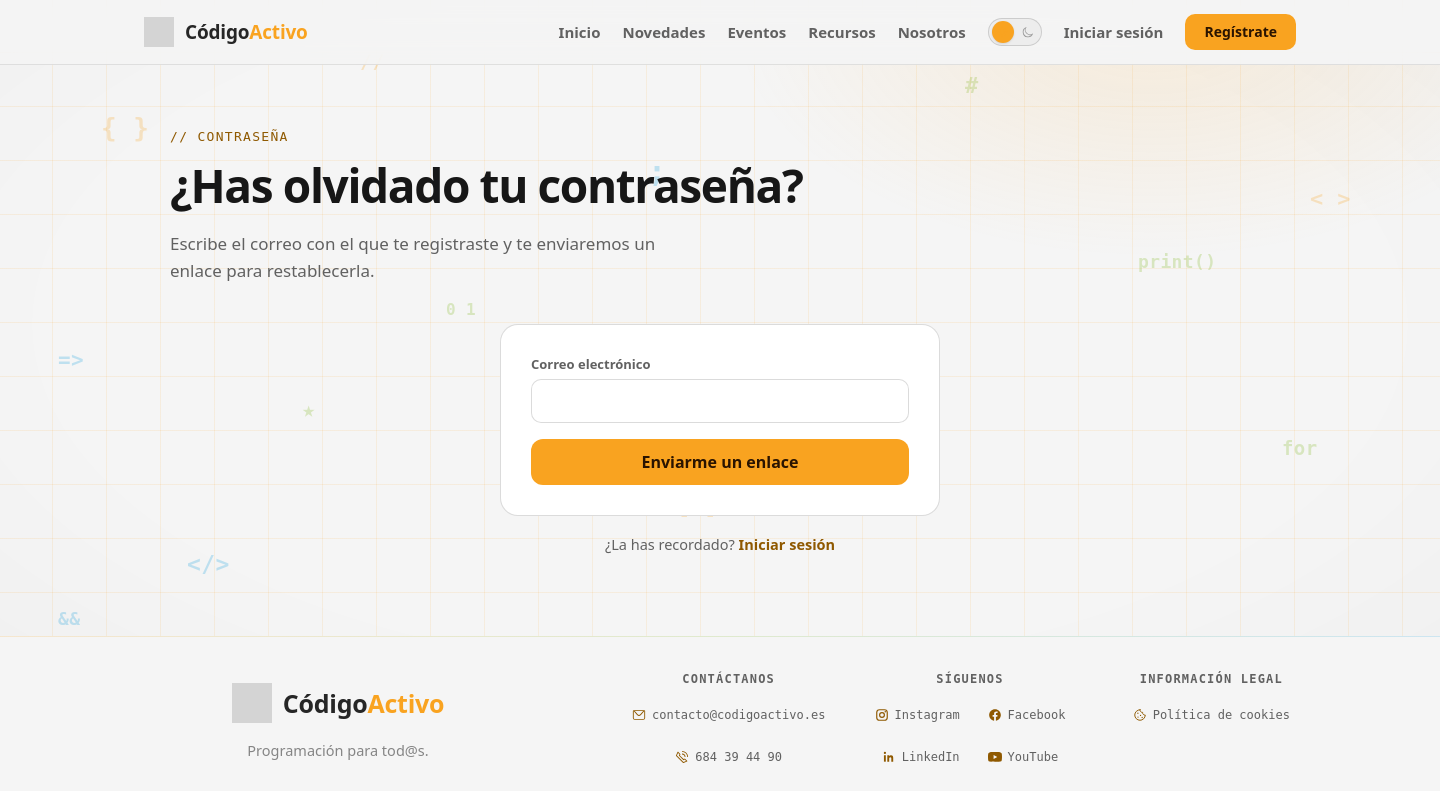
Test: forgot password page › shows an error and keeps the form when the request fails
The width and height of the screenshot is (1440, 791).
Type "ada@example.test" into the field with id "forgot-email" at (720, 401), box [545,380,895,422]
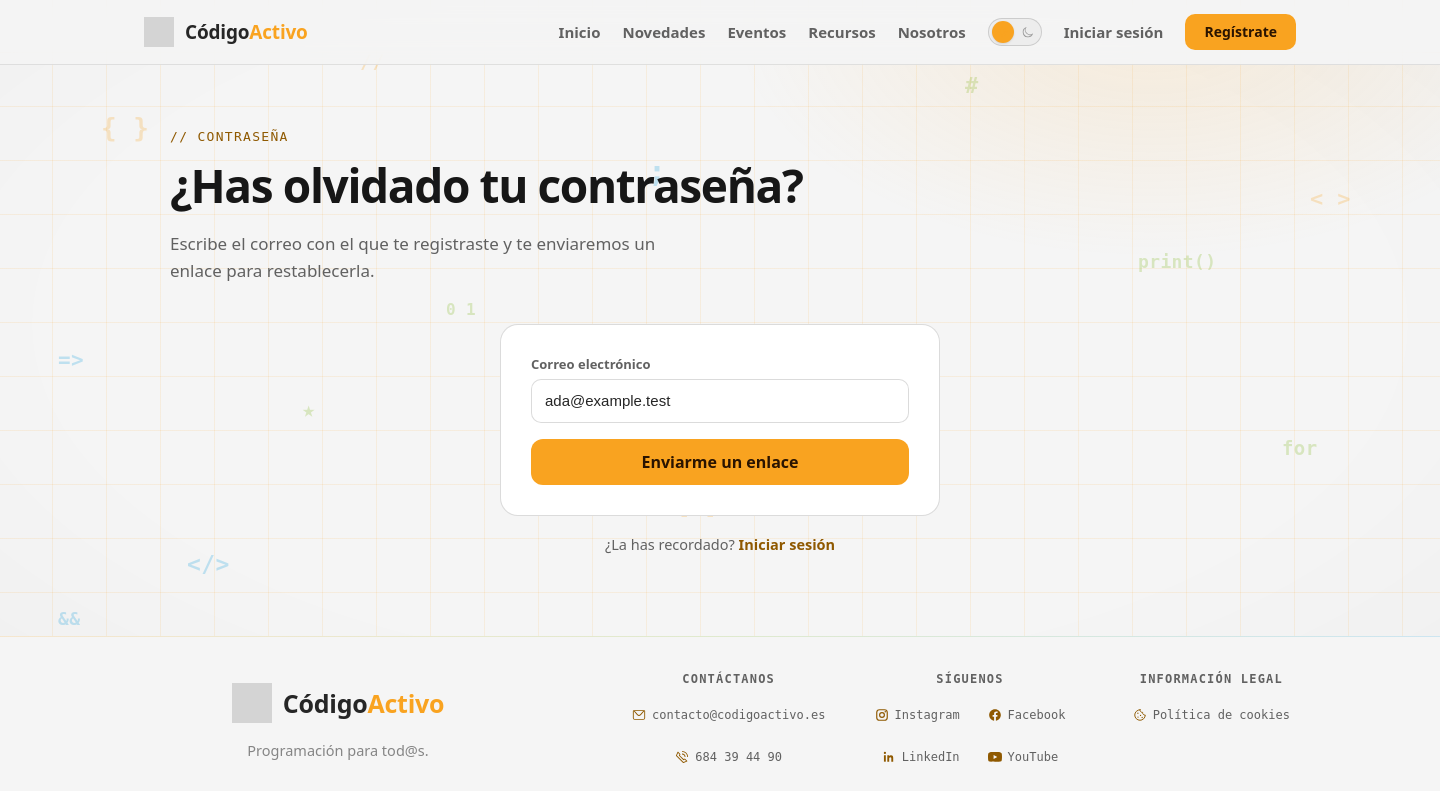
Submit the form, box [500,324,940,516]
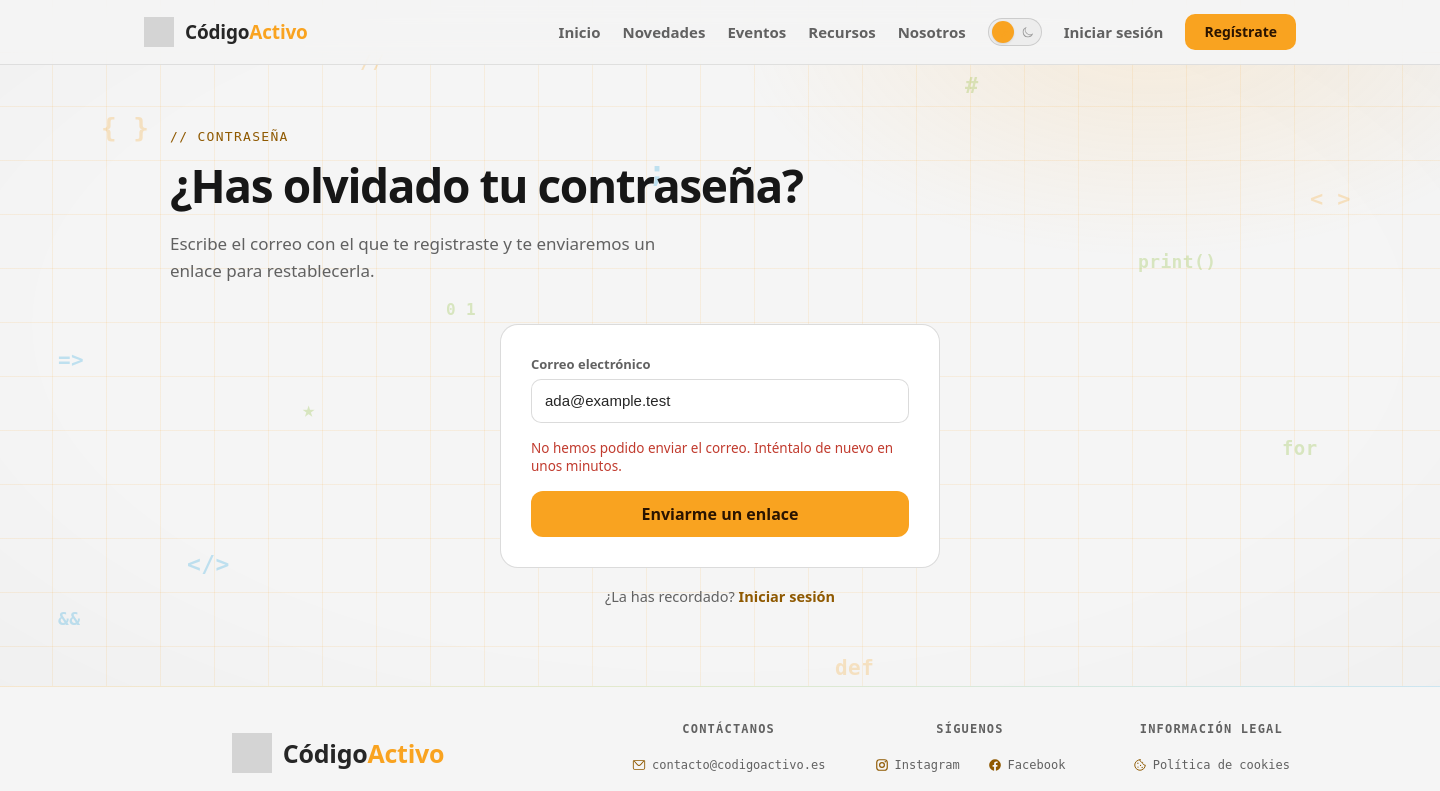
Expected: the form is shown, [500,324,940,568]
Now the message "No hemos podido enviar el correo. Inténtalo de nuevo en unos minutos." is shown, box [531,439,909,475]
